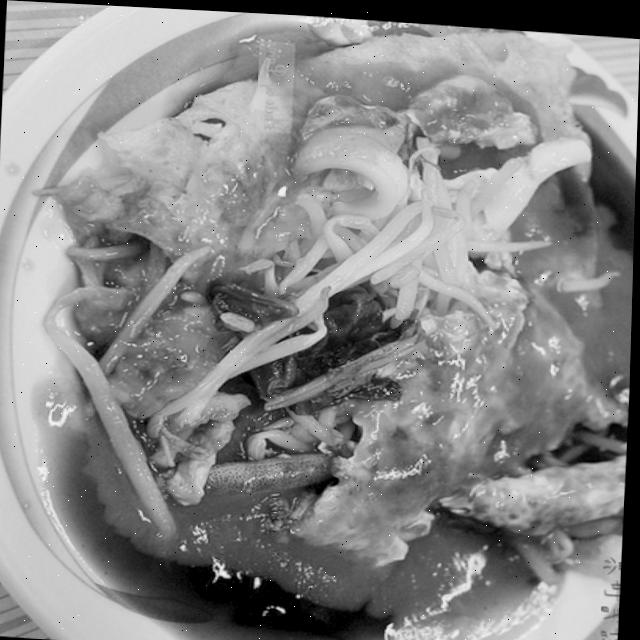熟制海鲜: (0, 10, 640, 640)
